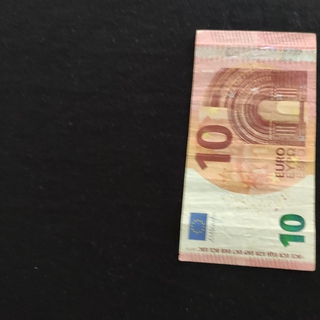10EUROFront: (178, 29, 317, 272)
